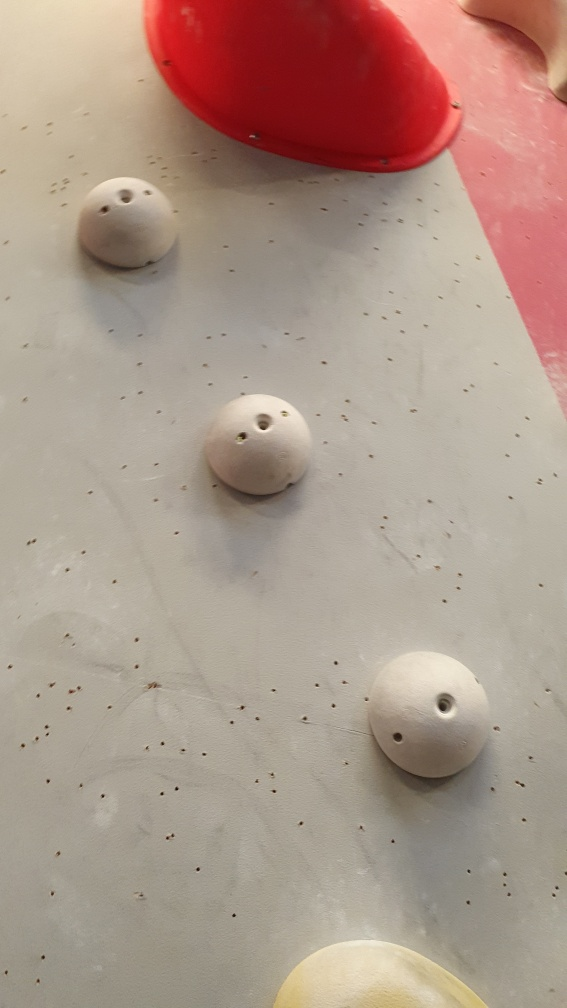Sloper: (373, 650, 497, 785), (208, 393, 315, 499), (78, 177, 176, 268)
